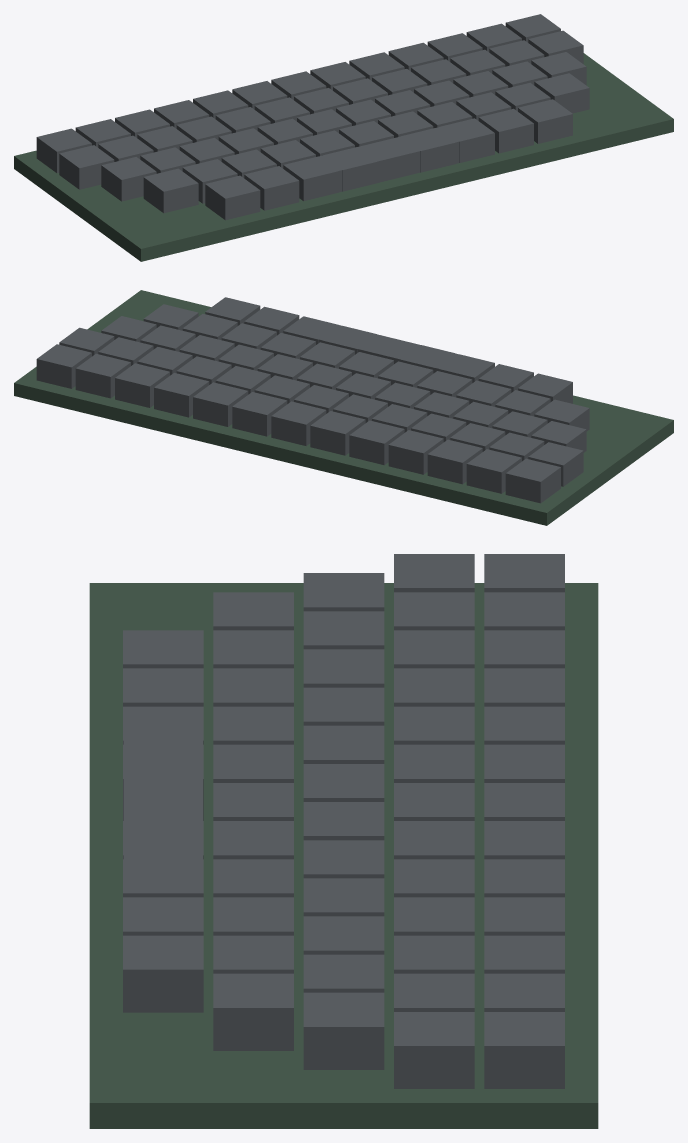
File: keyboard-sb-type.glb
3 renders of one model, top to bottom at view 1: azimuth 30°, elevation 25°; view 2: azimuth 150°, elevation 25°; view 3: azimuth 270°, elevation 25°, orthographic. The views are drawn at different scales.
Visible parts, largest first — view 1: geometry_0, geometry_54, geometry_39, geometry_50, geometry_14, geometry_27, geometry_52, geometry_51, geometry_57, geometry_58, geometry_56, geometry_49 (+47 smaller); view 2: geometry_0, geometry_54, geometry_1, geometry_3, geometry_6, geometry_5, geometry_8, geometry_9, geometry_12, geometry_7, geometry_13, geometry_2 (+47 smaller); view 3: geometry_0, geometry_38, geometry_49, geometry_58, geometry_13, geometry_26, geometry_54, geometry_29, geometry_36, geometry_27, geometry_28, geometry_30 (+47 smaller).
Boxes of the visible parts, bbox=[...] form: geometry_0: bbox=[14, 53, 673, 261]; geometry_54: bbox=[319, 126, 460, 192]; geometry_39: bbox=[143, 168, 198, 213]; geometry_50: bbox=[205, 175, 260, 220]; geometry_14: bbox=[59, 145, 114, 189]; geometry_27: bbox=[101, 157, 156, 201]; geometry_52: bbox=[283, 156, 338, 201]; geometry_51: bbox=[244, 166, 299, 210]; geometry_57: bbox=[478, 108, 533, 153]; geometry_58: bbox=[518, 99, 572, 143]; geometry_56: bbox=[441, 118, 494, 162]; geometry_49: bbox=[534, 73, 589, 113]; geometry_0: bbox=[14, 290, 673, 525]; geometry_54: bbox=[317, 324, 460, 371]; geometry_1: bbox=[505, 458, 560, 503]; geometry_3: bbox=[427, 439, 482, 484]; geometry_6: bbox=[310, 411, 365, 455]; geometry_5: bbox=[349, 420, 404, 465]; geometry_8: bbox=[232, 392, 287, 436]; geometry_9: bbox=[193, 382, 248, 426]; geometry_12: bbox=[75, 353, 130, 398]; geometry_7: bbox=[271, 401, 326, 445]; geometry_13: bbox=[36, 344, 91, 388]; geometry_2: bbox=[466, 449, 521, 493]; geometry_0: bbox=[89, 583, 598, 1128]; geometry_38: bbox=[303, 992, 384, 1069]; geometry_49: bbox=[213, 973, 293, 1050]; geometry_58: bbox=[123, 935, 203, 1012]; geometry_13: bbox=[484, 1012, 564, 1088]; geometry_26: bbox=[394, 1012, 474, 1088]; geometry_54: bbox=[123, 740, 202, 860]; geometry_29: bbox=[303, 649, 384, 687]; geometry_36: bbox=[303, 916, 384, 954]; geometry_27: bbox=[303, 573, 384, 611]; geometry_28: bbox=[303, 611, 384, 649]; geometry_30: bbox=[303, 687, 384, 725].
Bounding box in the file's own units: 0.259 × 0.016 × 0.107.
